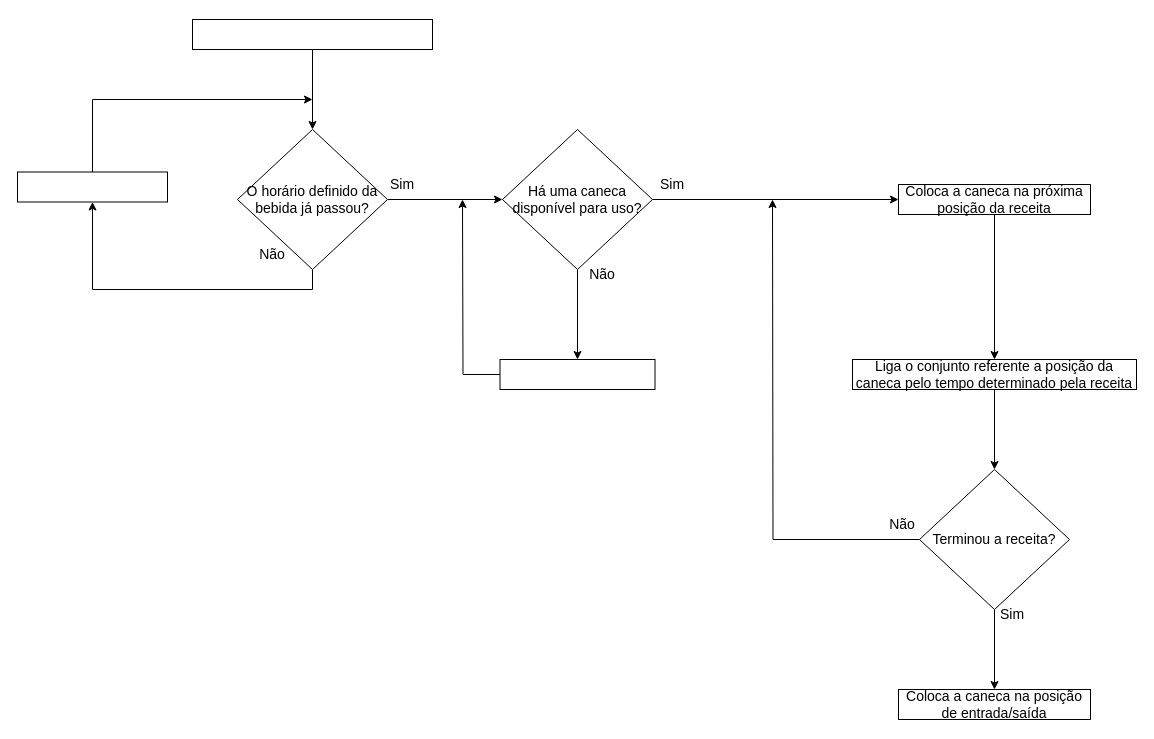
Some shapes in this 1154 by 739 pixel diagram are drawn without their labels. Each missing label, with the centre of its shape:
"Armazena a bebida" goes at (92,186).
"Espera o usuário colocar uma caneca" goes at (577,374).
"Recebe a receita da bebida por meio da aplicação web ou pelo M5STACK" goes at (312,34).
